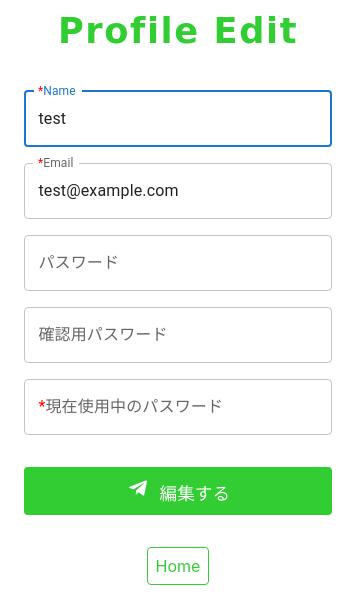
Test case: UserEditコンポーネント › Form欄 › 送信ボタン › 送信結果に応じてボタンの要素が変化 Status200
// 初期値の入ってない項目に有効な値を入力
Type "testPassword" into the password field with test id "passwordArea" at (178, 263), box [24,235,332,291]
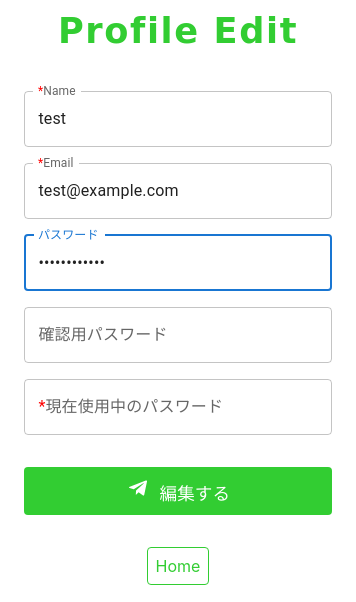
Type "testPassword" into the password field with test id "password_confirmationArea" at (178, 335), box [24,307,332,363]
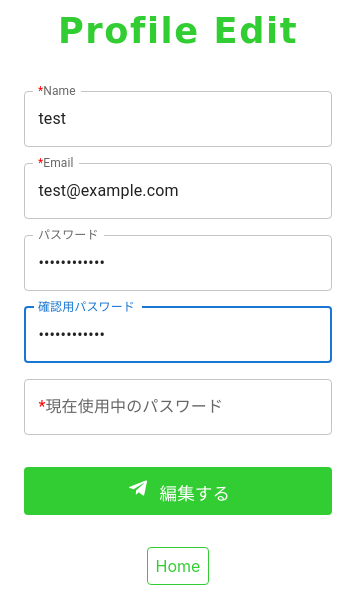
Type "testPassword" into the password field with test id "current_passwordArea" at (178, 407), box [24,379,332,435]
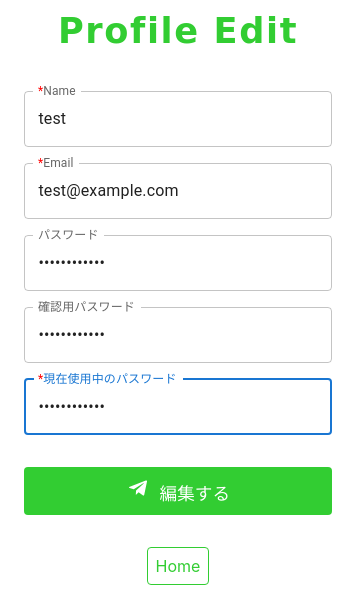
// ユーザが送信ボタンをクリック
Click the button with test id "formSubmit" at (178, 491), box [24,467,332,515]
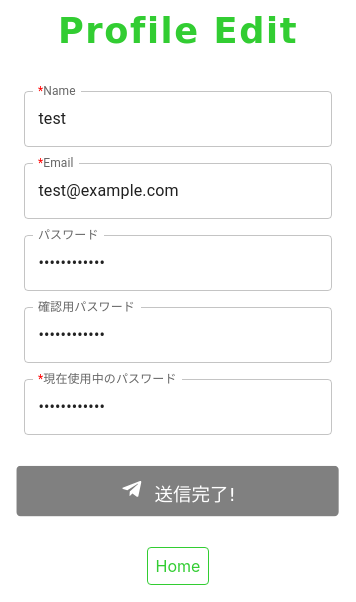
Result: the button with test id "formSubmit" reads "送信完了!" at [17,466,339,516]
